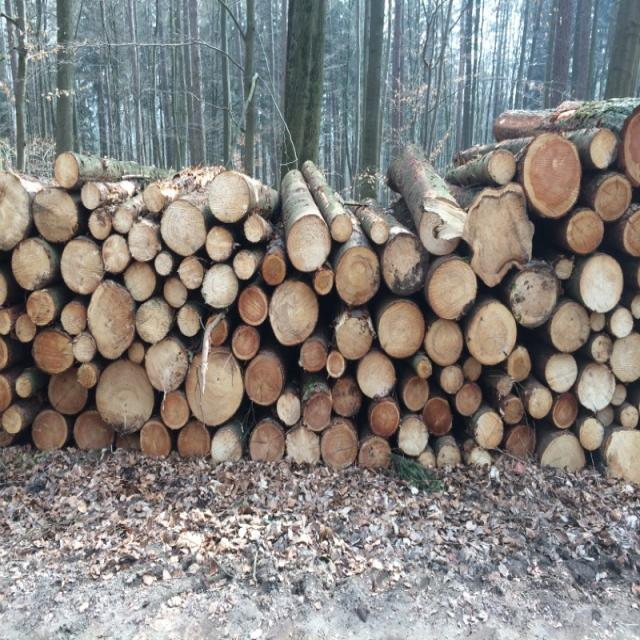wood-log: (465, 188, 535, 288), (524, 137, 584, 221), (187, 345, 244, 424), (93, 356, 154, 428), (86, 280, 134, 360), (466, 301, 518, 366), (270, 282, 320, 347), (425, 258, 477, 320), (512, 266, 560, 327), (376, 301, 424, 360), (334, 247, 381, 307), (381, 235, 425, 297), (578, 254, 624, 313), (60, 238, 106, 296), (158, 201, 207, 255), (34, 188, 81, 244), (286, 216, 332, 273), (144, 336, 188, 391), (208, 172, 252, 223), (10, 240, 52, 293), (0, 176, 30, 249), (247, 350, 286, 404), (577, 362, 618, 412), (550, 302, 590, 352), (35, 326, 75, 376), (321, 421, 359, 473), (541, 433, 586, 475), (48, 367, 88, 414), (336, 312, 374, 361), (356, 352, 395, 399), (608, 428, 640, 485), (201, 264, 239, 310), (426, 321, 464, 367), (594, 176, 632, 222), (418, 213, 461, 253), (134, 299, 172, 344), (75, 410, 114, 452), (566, 210, 603, 254), (32, 409, 68, 452), (610, 332, 640, 382), (287, 424, 321, 468), (127, 222, 163, 262), (330, 376, 364, 418), (252, 420, 287, 460), (545, 352, 580, 391), (123, 262, 158, 300), (398, 414, 429, 456), (588, 126, 618, 169), (178, 421, 210, 461), (358, 437, 392, 474), (141, 419, 173, 458), (623, 112, 640, 184), (424, 397, 454, 437), (475, 409, 505, 449), (238, 286, 268, 326), (371, 399, 402, 437), (303, 392, 333, 431), (210, 428, 242, 464), (102, 234, 130, 274), (161, 392, 191, 429), (552, 392, 580, 430), (507, 422, 537, 457), (27, 290, 56, 326), (205, 227, 234, 262), (232, 324, 261, 359), (488, 150, 517, 185), (300, 338, 328, 374), (53, 153, 81, 188), (176, 258, 204, 292), (404, 376, 431, 411), (454, 380, 481, 414), (61, 300, 88, 334), (263, 251, 288, 287), (508, 344, 533, 380), (275, 392, 300, 427), (163, 275, 190, 307), (526, 386, 552, 419), (176, 304, 201, 338), (579, 418, 604, 450), (624, 211, 640, 260), (233, 252, 259, 282), (611, 306, 635, 338), (72, 331, 96, 363), (440, 363, 465, 393), (244, 215, 269, 244), (314, 264, 336, 296), (208, 316, 230, 348), (501, 396, 525, 425), (15, 313, 38, 343), (448, 368, 474, 394), (332, 215, 355, 244), (591, 334, 613, 364), (89, 213, 112, 240), (83, 183, 105, 211), (1, 405, 22, 434), (328, 349, 348, 377), (461, 356, 482, 380), (156, 252, 175, 278), (620, 406, 640, 430), (0, 373, 12, 412), (128, 340, 147, 363), (15, 374, 32, 398), (0, 309, 14, 336), (416, 355, 432, 377), (612, 384, 628, 406), (0, 269, 9, 307), (0, 338, 9, 372), (631, 292, 640, 318)
